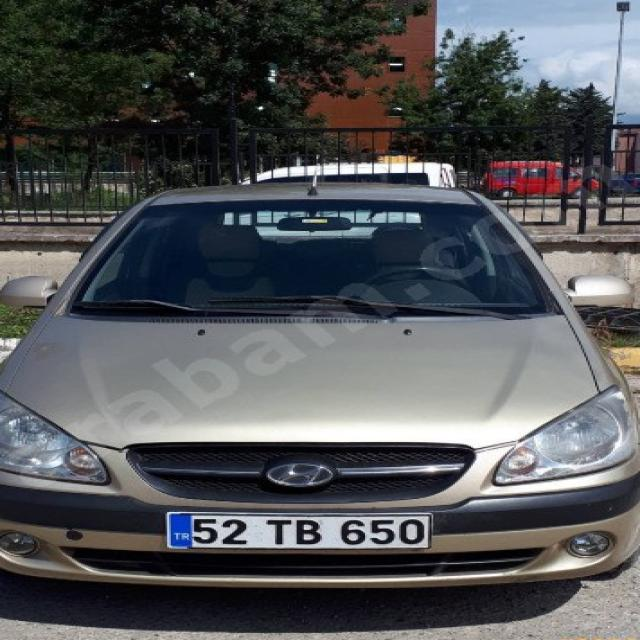license_plate: (166, 513, 431, 549)
